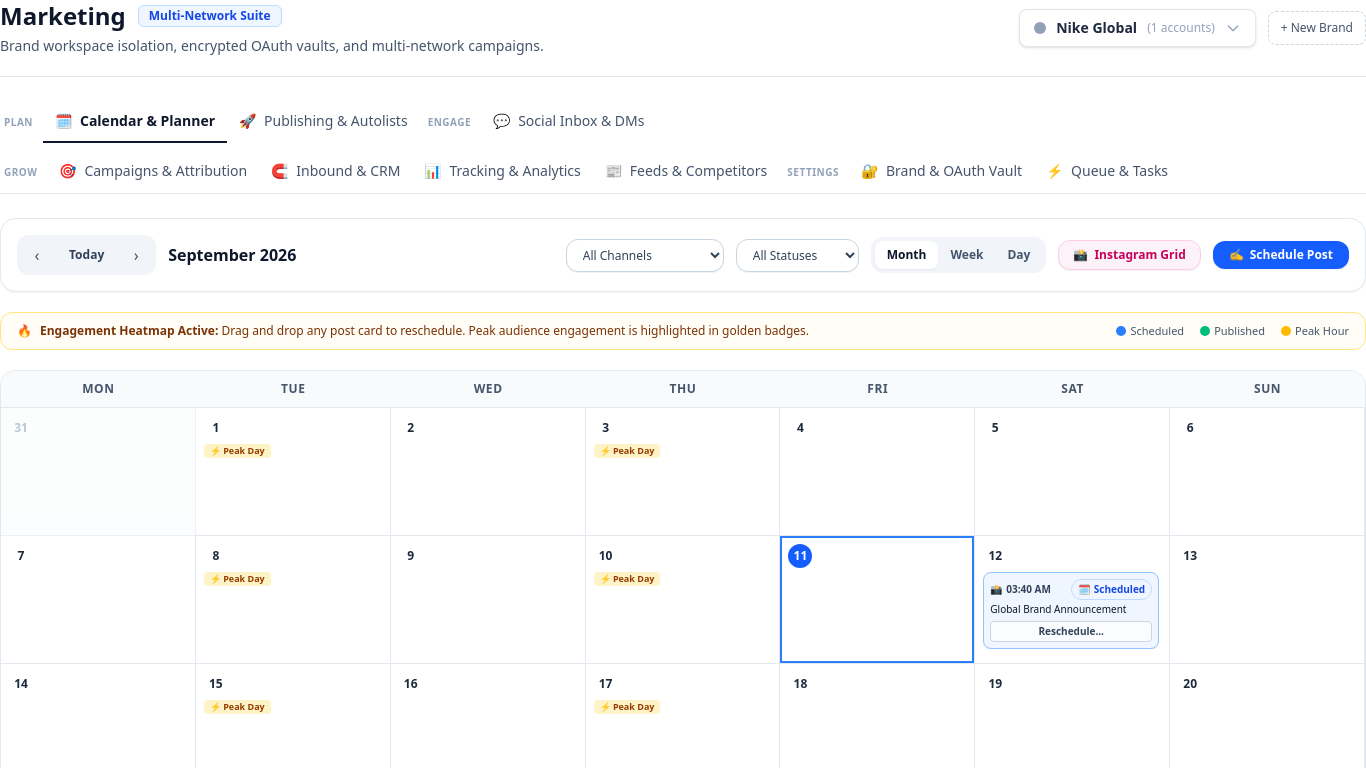
Test: marketing: design system, navigation and accessibility › rescheduling a post › renders the server refusal rather than deciding for itself what is legal
The image size is (1366, 768).
What coordinates should you click on to do the following:
click the button with aria-label "Reschedule post:"
I would click on:
 (1071, 632)
Its box is [990, 621, 1152, 642].
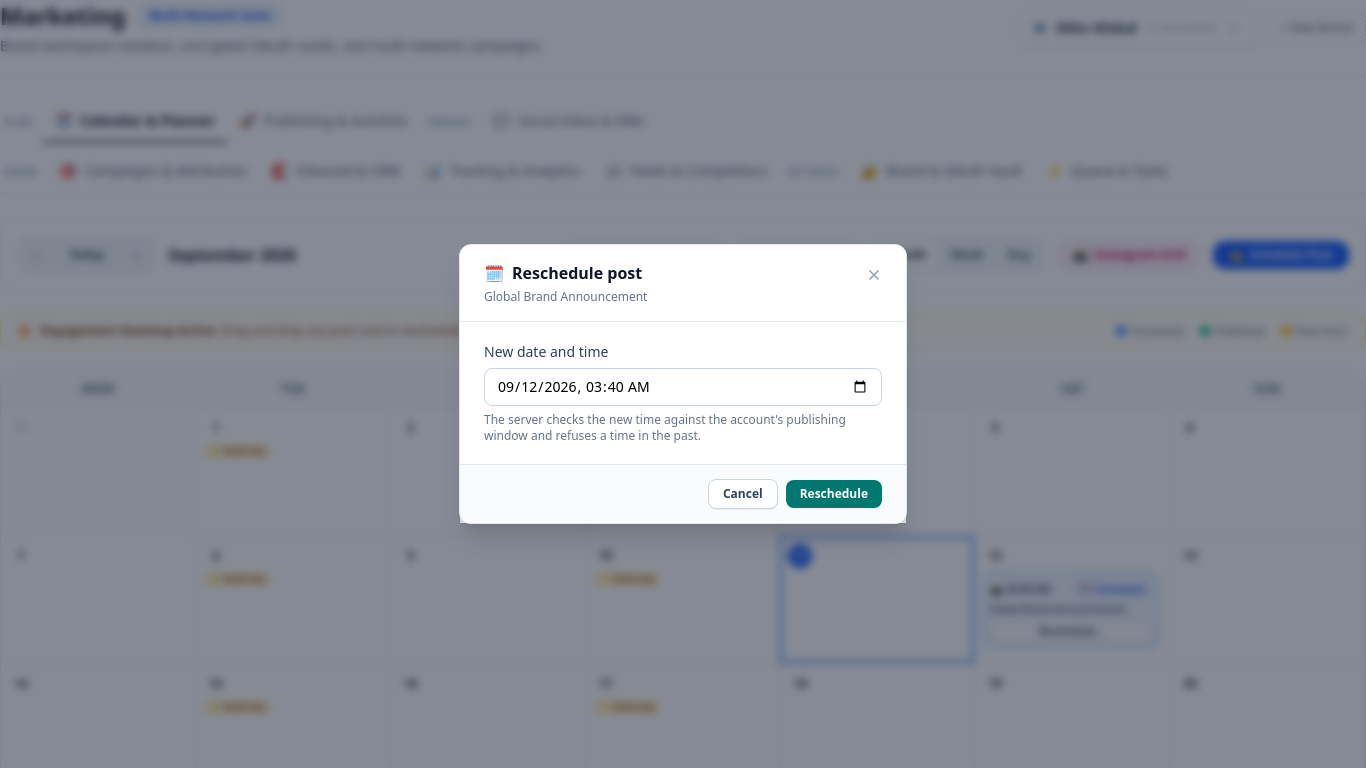
What coordinates should you click on to do the following:
click the button "Reschedule"
I would click on:
 (834, 494)
Its box is [786, 480, 882, 508].
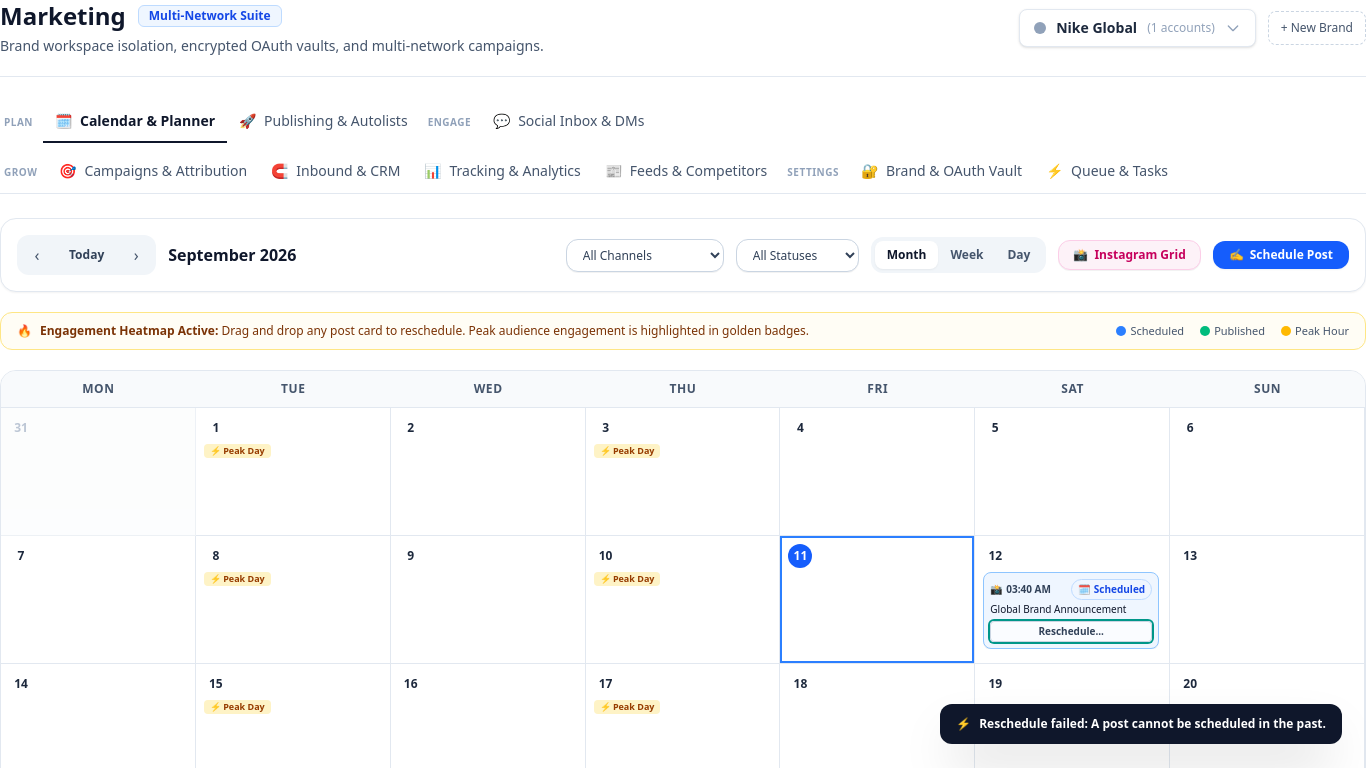
Check: the text "Reschedule failed: A post cannot be scheduled in the past." is shown, box [979, 716, 1326, 732]
